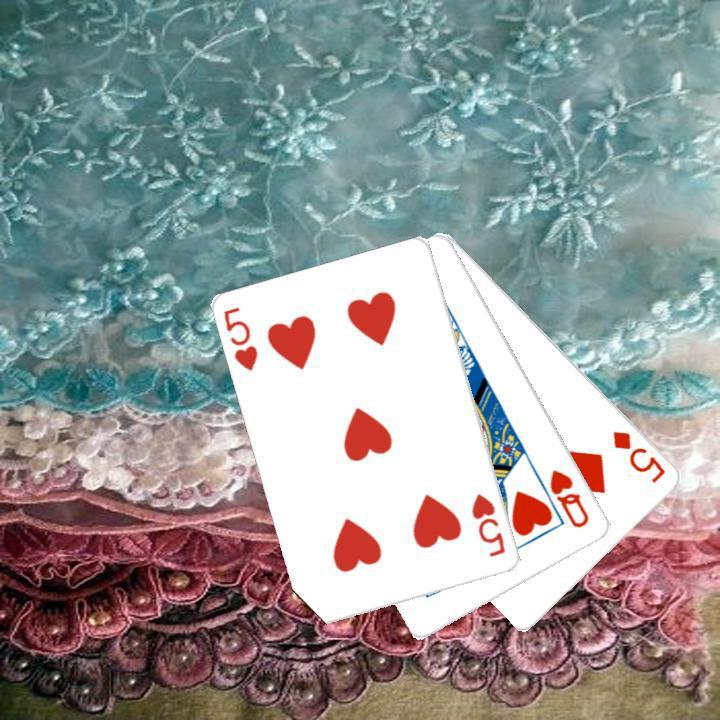5: (608, 426, 668, 486), (219, 302, 260, 374), (468, 489, 508, 560)
Q: (545, 465, 592, 531)
